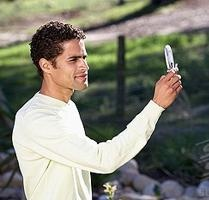person without safety: (15, 16, 104, 193)
